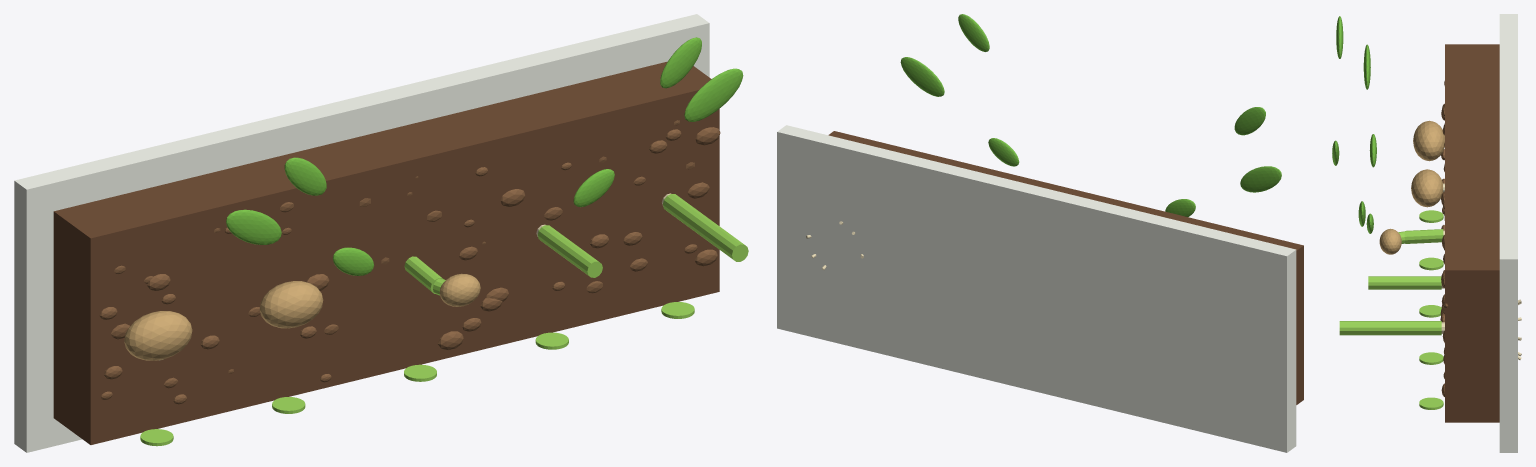
Rendered from germinacao_sementes_AR_REALISTA_V2.glb.
3 views of the same model, side by side, from view 1: azimuth 30°, elevation 25°; view 2: azimuth 150°, elevation 25°; view 3: azimuth 270°, elevation 25° (orthographic). The views are drawn at different scales.
Parts seen in each view (by area): view 1: soil block, display base, stage1 seed, stage2 seed coat, stage5 stem, stage5 leaf right low, stage5 leaf left low, stage4 stem, stage5 leaf right top, stage5 leaf left top, stage3 seed coat, stage4 right leaf (+1 smaller); view 2: display base, soil block, stage5 leaf right low, stage5 leaf left low, stage5 leaf right top, stage5 leaf left top, stage4 right leaf; view 3: soil block, display base, stage5 stem, stage1 seed, stage4 stem, stage2 seed coat, stage3 stem lower, stage3 seed coat, stage5 leaf left low, stage badge 2, stage badge 4, stage badge 5 (+4 smaller).
Boxes of the visible parts, x1,y1,x2,y2 form: soil block: (53,61,719,444); display base: (14,14,709,452); stage1 seed: (124,311,192,360); stage2 seed coat: (259,281,323,328); stage5 stem: (662,194,748,261); stage5 leaf right low: (684,68,743,121); stage5 leaf left low: (226,209,281,244); stage4 stem: (537,225,602,277); stage5 leaf right top: (660,37,701,88); stage5 leaf left top: (284,157,326,195); stage3 seed coat: (439,273,480,306); stage4 right leaf: (573,169,614,207); display base: (777,125,1296,452); soil block: (828,131,1303,404); stage5 leaf right low: (900,57,944,96); stage5 leaf left low: (1240,166,1281,192); stage5 leaf right top: (958,14,989,51); stage5 leaf left top: (1234,107,1265,135); stage4 right leaf: (988,138,1019,166); soil block: (1445,44,1499,422); display base: (1499,14,1517,452); stage5 stem: (1339,321,1441,335); stage1 seed: (1413,120,1444,161); stage4 stem: (1368,276,1441,289); stage2 seed coat: (1411,169,1442,207); stage3 stem lower: (1404,229,1443,243); stage3 seed coat: (1379,228,1401,254); stage5 leaf left low: (1363,44,1370,89); stage badge 2: (1419,257,1443,270); stage badge 4: (1419,352,1443,364); stage badge 5: (1419,397,1443,409).
Bounding box in the file's own units: 5.7 × 2.88 × 1.86.
